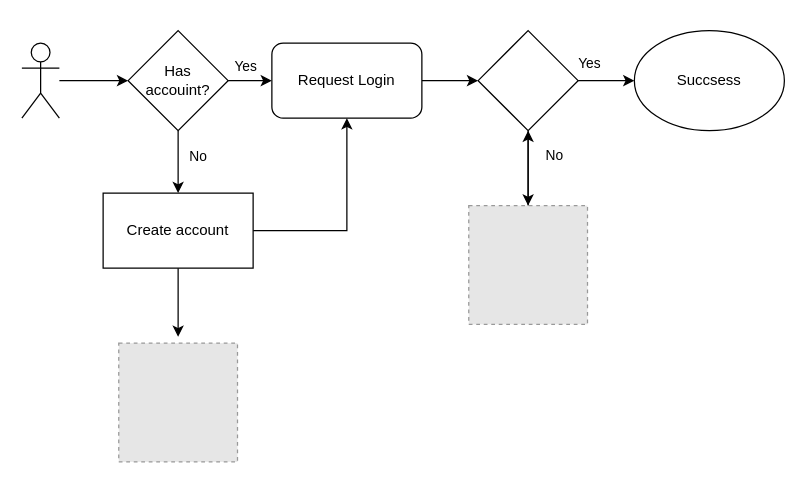
Some shapes in this 806 by 484 pixel diagram are drawn without their labels. Grey dashed boxes stand in for pictures. The shapes that lost their labels are listed below. From the top down, each one's box as (x1, y1, x2, y2) in pixels, then its label:
(21, 42, 59, 118): Actor
(477, 29, 578, 131): Valid login?
